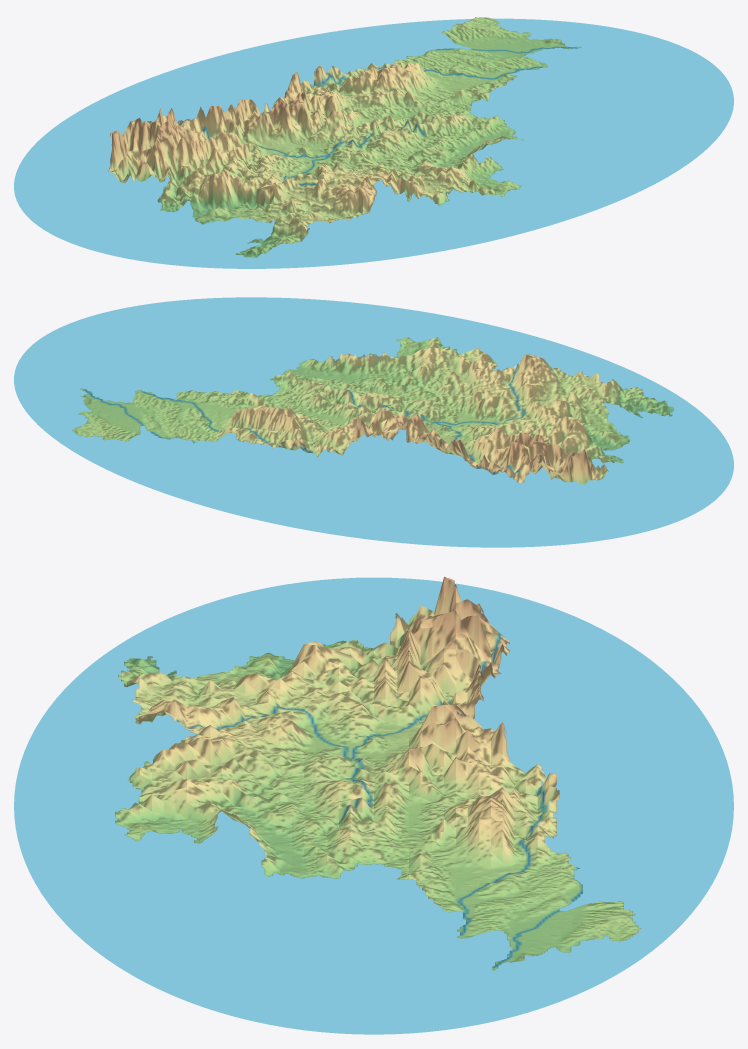
The model's file is SVN-terrain.glb.
3 views of the same model, one above another, from view 1: azimuth 30°, elevation 25°; view 2: azimuth 150°, elevation 25°; view 3: azimuth 270°, elevation 25° (orthographic). The views are drawn at different scales.
Parts seen in each view (by area): view 1: Relevo com hidrografia; view 2: Relevo com hidrografia; view 3: Relevo com hidrografia.
Part boxes in pixels (x1=…): Relevo com hidrografia: x1=14, y1=17, x2=733, y2=268; Relevo com hidrografia: x1=14, y1=297, x2=733, y2=547; Relevo com hidrografia: x1=14, y1=576, x2=733, y2=1034.
Size of the model in its own units: 2.17 by 0.1679 by 1.45.
2 materials, 1 textured.
